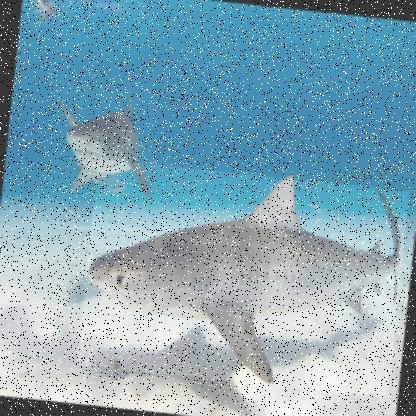tiger-shark: (75, 157, 409, 397), (43, 81, 161, 204)
